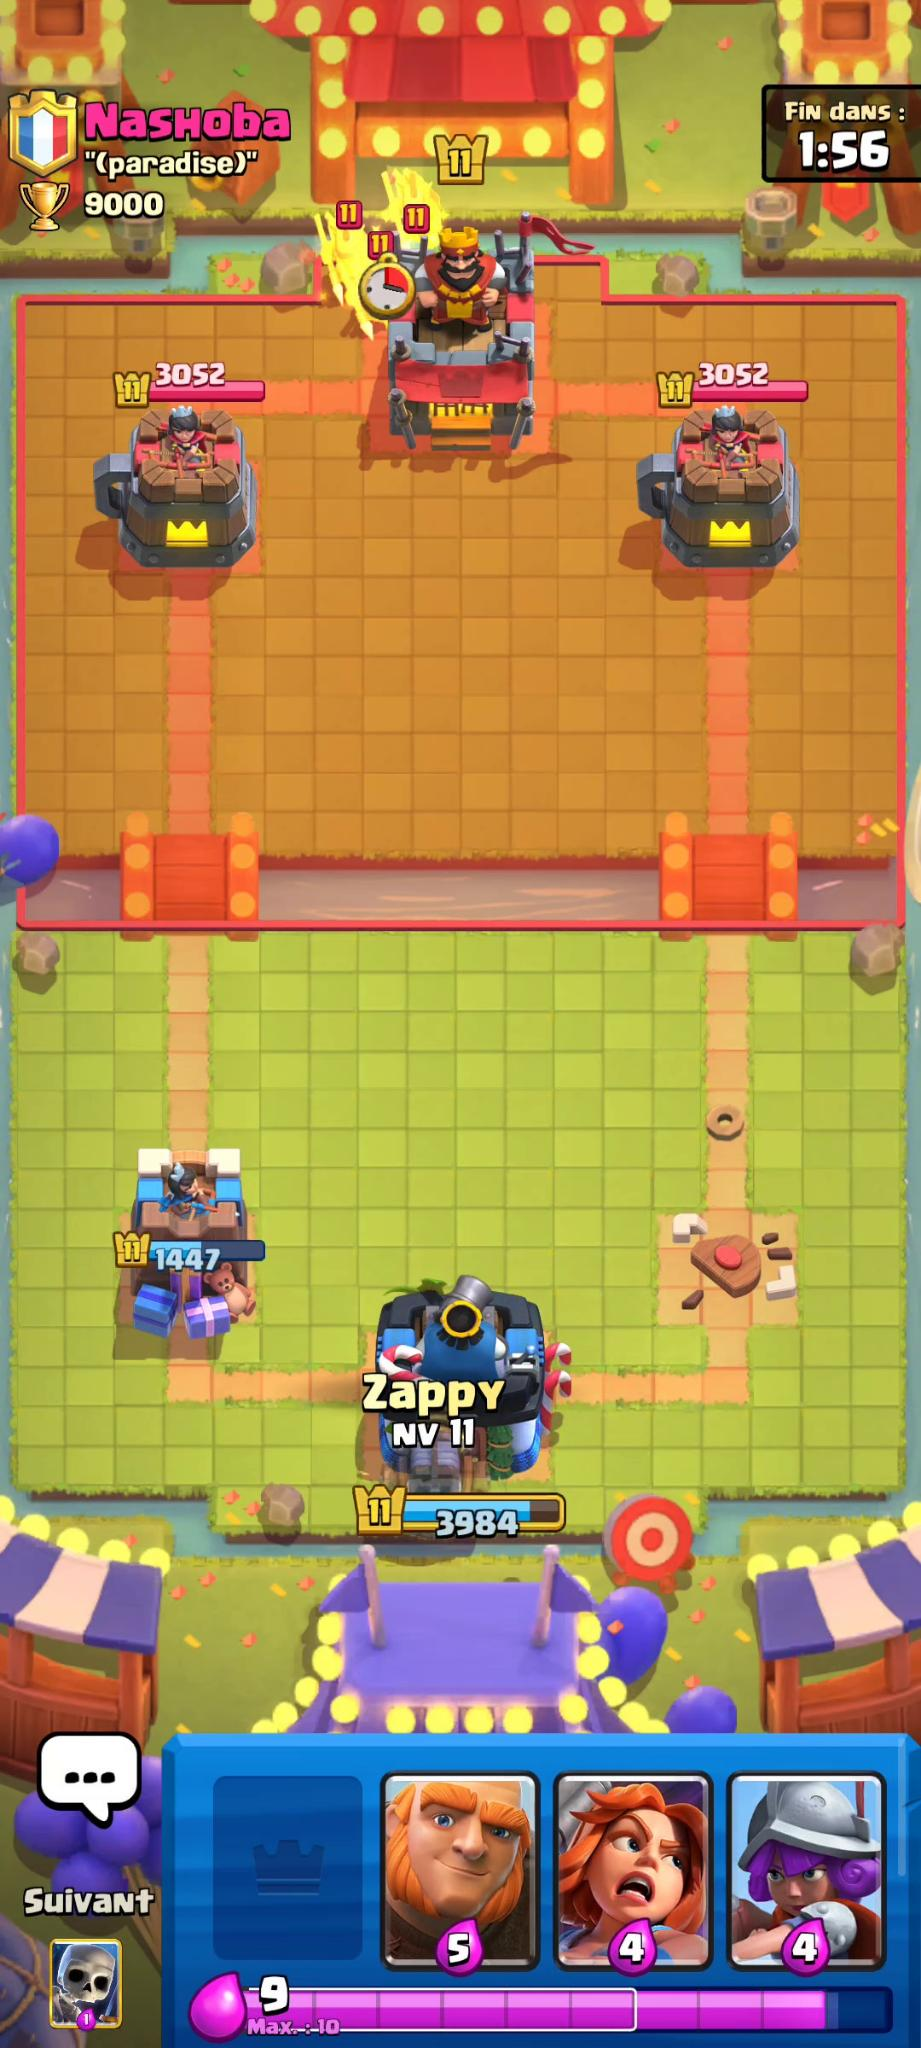gobelin_lances: (320, 222, 375, 286), (381, 195, 439, 251), (359, 261, 397, 310)
zappy: (392, 1411, 473, 1520)
